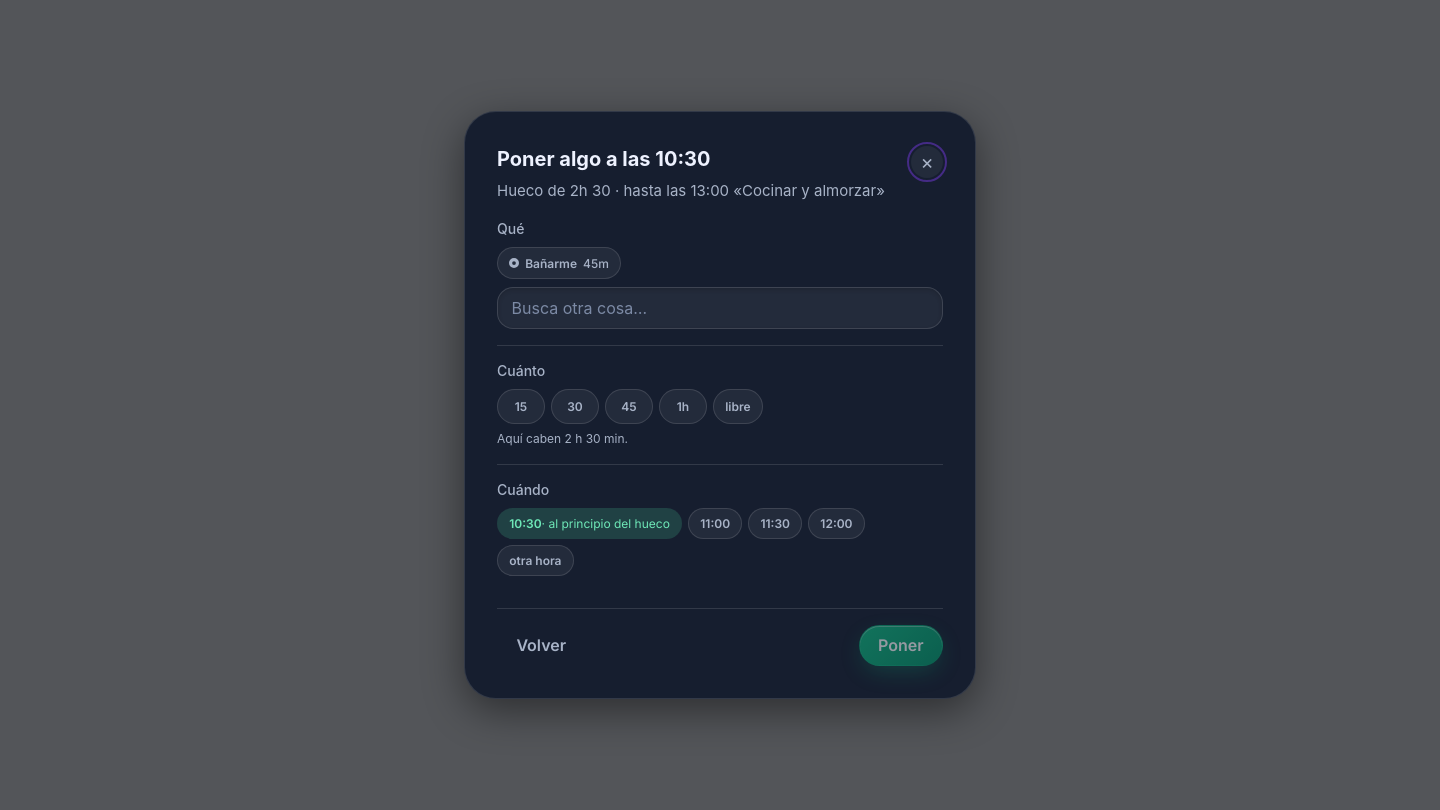
Test case: VidaPlaceInGapSheet › criterio 25 — «Poner» no se habilita hasta tener las tres resueltas
Expected: the button "Poner" is disabled, [859,625,943,666]
Click the button "Bañarme 45m".
click(559, 263)  # box [497,247,621,279]
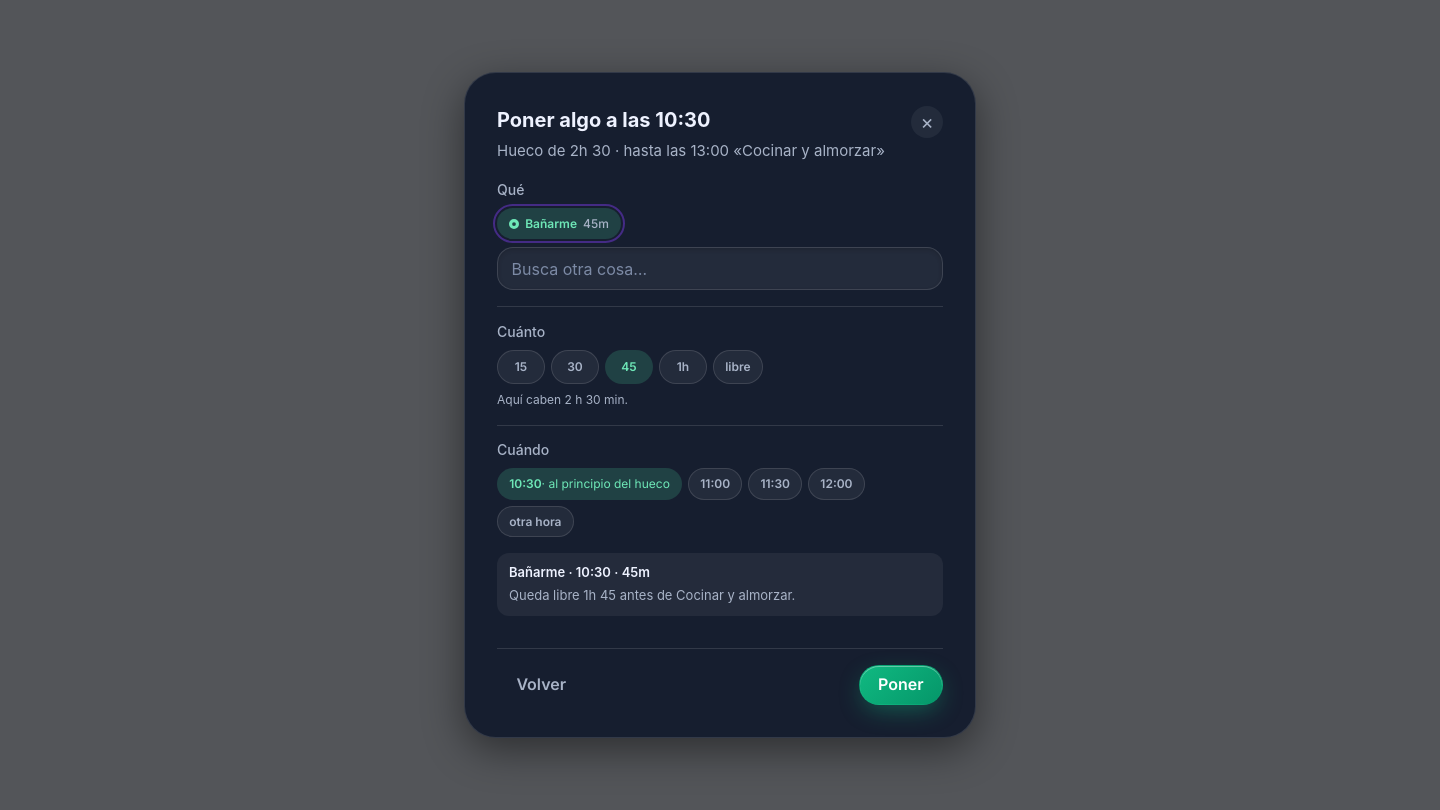
Expected: the button "Poner" is enabled, [859,665,943,705]
